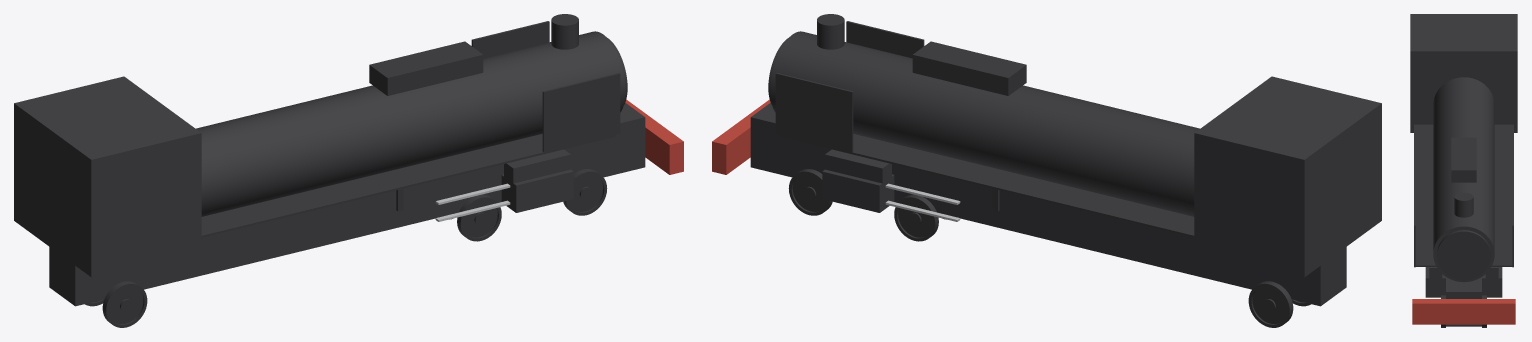
File: kyoto_c57_chassis.glb
3 renders of one model, left to right at view 1: azimuth 30°, elevation 25°; view 2: azimuth 150°, elevation 25°; view 3: azimuth 270°, elevation 25°, orthographic. The views are drawn at different scales.
Parts seen in each view (by area): view 1: boiler, cab, frame, running_board_r, smoke_deflector_r, sand_steam_dome, cylinder_r, buffer_beam, smoke_deflector_l, trail_r, lead_2_r, steam_chest_r (+2 smaller); view 2: boiler, cab, frame, running_board_l, smoke_deflector_l, sand_steam_dome, cylinder_l, buffer_beam, smoke_deflector_r, trail_l, lead_2_l, steam_chest_l (+2 smaller); view 3: cab, boiler, running_board_l, running_board_r, buffer_beam, smokebox_door, sand_steam_dome, frame, cylinder_l, cylinder_r, chimney, steam_chest_l (+3 smaller).
Boxes of the visible parts, <box> form: boiler: <box>196,31,625,216</box>; cab: <box>14,76,201,277</box>; frame: <box>49,103,645,306</box>; running_board_r: <box>201,134,615,237</box>; smoke_deflector_r: <box>542,73,620,152</box>; sand_steam_dome: <box>369,41,483,95</box>; cylinder_r: <box>501,169,573,212</box>; buffer_beam: <box>625,99,683,174</box>; smoke_deflector_l: <box>471,21,549,58</box>; trail_r: <box>102,281,147,327</box>; lead_2_r: <box>457,194,501,241</box>; steam_chest_r: <box>504,149,570,183</box>; boiler: <box>770,31,1199,216</box>; cab: <box>1194,76,1381,277</box>; frame: <box>750,103,1346,306</box>; running_board_l: <box>780,134,1194,237</box>; smoke_deflector_l: <box>775,73,853,152</box>; sand_steam_dome: <box>912,41,1026,95</box>; cylinder_l: <box>822,169,894,212</box>; buffer_beam: <box>712,99,770,174</box>; smoke_deflector_r: <box>846,21,924,58</box>; trail_l: <box>1248,281,1293,327</box>; lead_2_l: <box>894,194,938,241</box>; steam_chest_l: <box>825,149,891,183</box>; cab: <box>1410,14,1517,132</box>; boiler: <box>1433,77,1494,282</box>; running_board_l: <box>1491,124,1513,266</box>; running_board_r: <box>1414,124,1436,266</box>; buffer_beam: <box>1412,299,1515,324</box>; smokebox_door: <box>1437,230,1490,280</box>; sand_steam_dome: <box>1451,137,1476,182</box>; frame: <box>1446,277,1481,326</box>; cylinder_l: <box>1482,267,1502,297</box>; cylinder_r: <box>1425,267,1445,297</box>; chimney: <box>1454,192,1473,217</box>; steam_chest_l: <box>1485,267,1498,278</box>.
Size of the model in its own units: 12.4 by 3.95 by 2.8.
